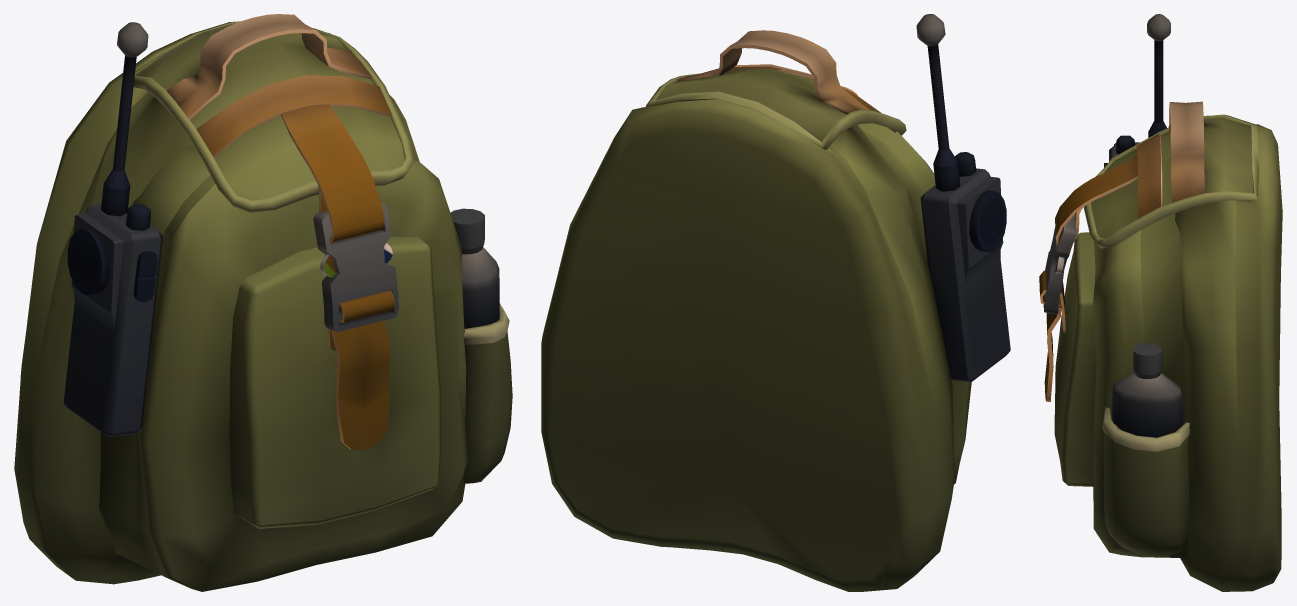
The model's file is Back_Tactical_Backpack.gltf.
3 views of the same model, side by side, from view 1: azimuth 30°, elevation 25°; view 2: azimuth 150°, elevation 25°; view 3: azimuth 270°, elevation 25° (orthographic). The views are drawn at different scales.
Parts seen in each view (by area): view 1: Back_Tactical_Backpack; view 2: Back_Tactical_Backpack; view 3: Back_Tactical_Backpack.
Boxes of the visible parts, x1,y1,x2,y2 form: Back_Tactical_Backpack: (14, 14, 512, 591); Back_Tactical_Backpack: (541, 14, 1010, 591); Back_Tactical_Backpack: (1039, 14, 1282, 591).
Bounding box in the file's own units: 0.676 × 0.8908 × 0.4219.
Materials: 2 (2 with a texture image).
